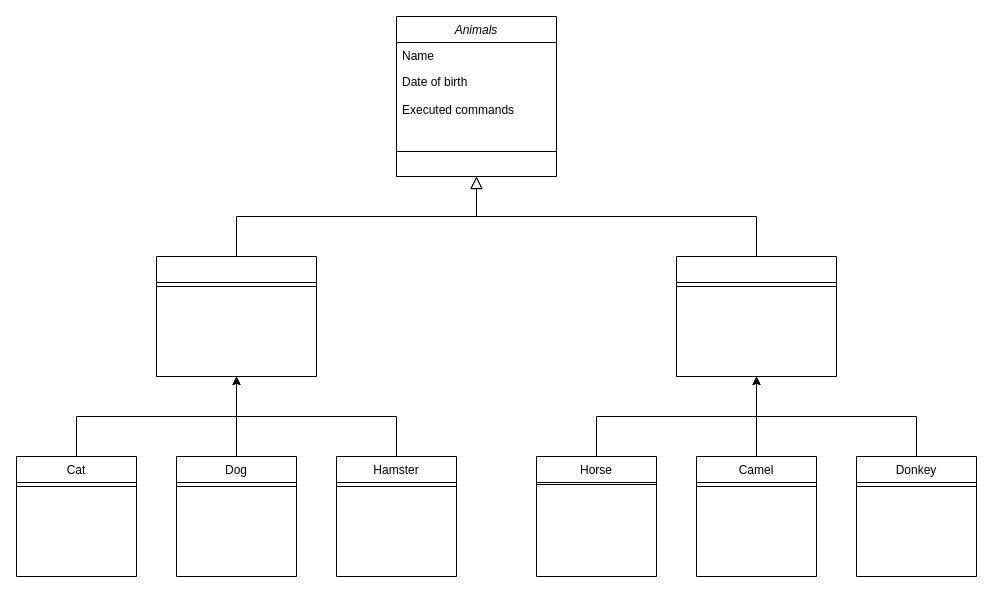
Image size: 993x593. Some labels were removed from this diagram. Here are the shapes that lost their labels. From the top down, the centre of each, then its label:
the point at 236,316: Pets
the point at 756,316: PackAnimals
